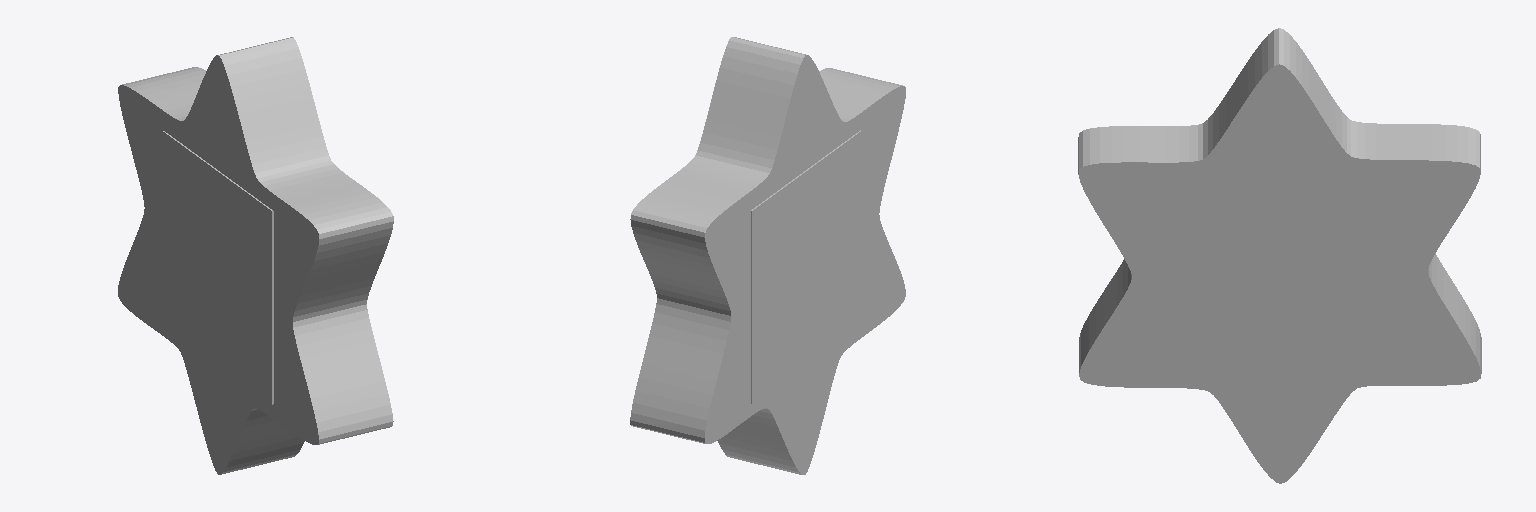
File: gwiazdka.obj
3 renders of one model, left to right at view 1: azimuth 30°, elevation 25°; view 2: azimuth 150°, elevation 25°; view 3: azimuth 270°, elevation 25°, orthographic.
Visible parts, largest first — view 1: bubble, obraz1; view 2: bubble, obraz1; view 3: bubble, obraz2.
Part boxes in pixels (x1,y1,x2,y2): bubble: (118,37,393,474); obraz1: (162,131,271,403); bubble: (630,37,905,474); obraz1: (752,131,861,403); bubble: (1078,28,1481,483); obraz2: (1170,180,1388,373).
Size of the model in its own units: 11.36 by 58.55 by 50.99.